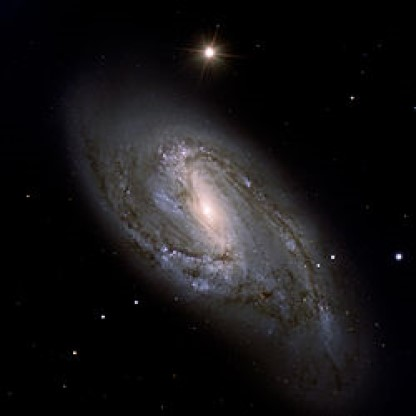Messier 66: (57, 24, 362, 384)
